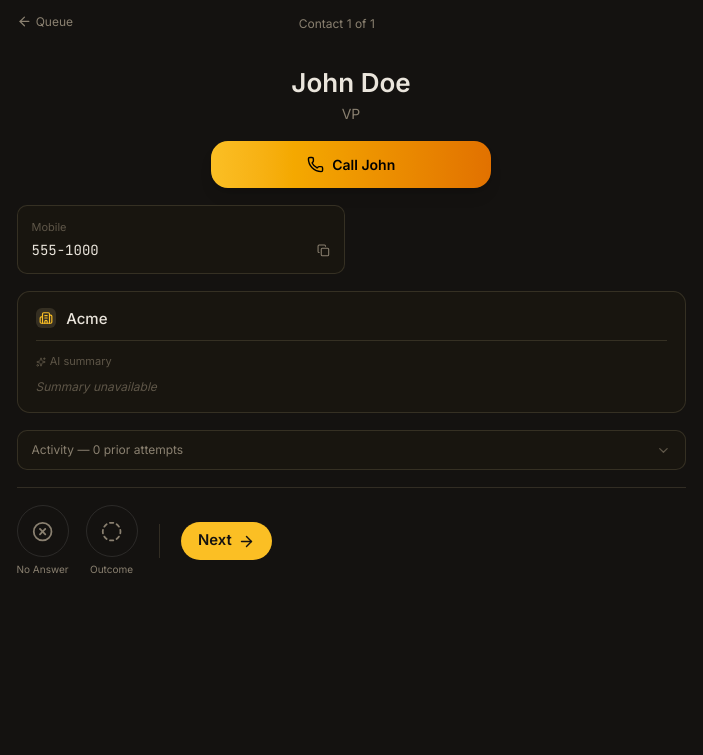
it: ProfileViewCard — draft disposition flow › Cancel in the disposition form returns to the icon row without logging
Click the button titled "Log a call outcome" at (112, 531), box x1=86 y1=505 x2=138 y2=557
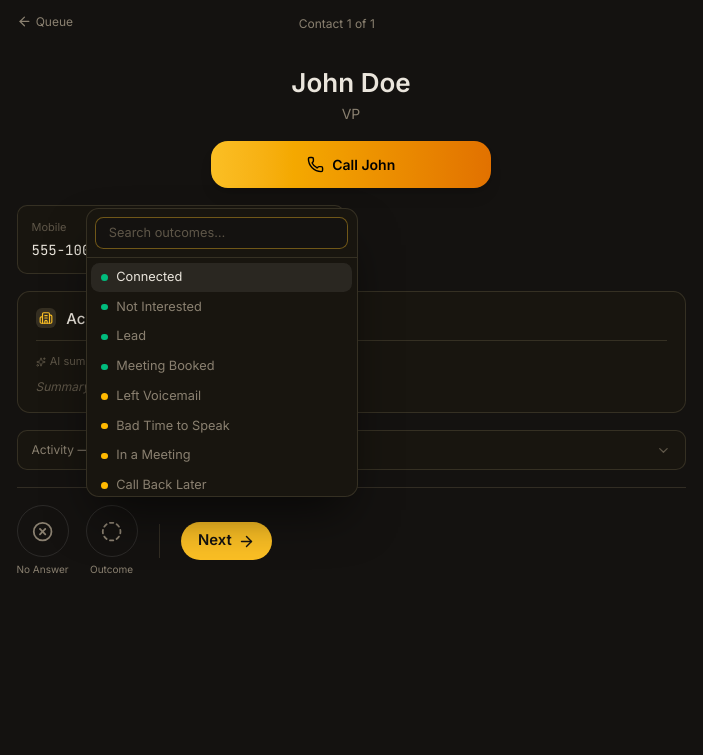
Click the button "Meeting Booked" at (165, 366), box x1=91 y1=352 x2=352 y2=382
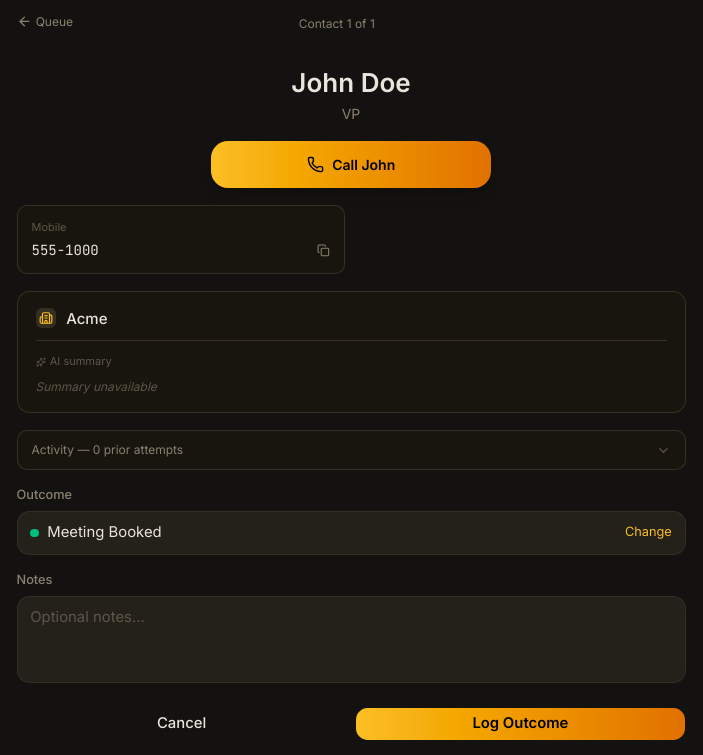
Click the button "Cancel" at (182, 724), box x1=16 y1=707 x2=347 y2=741
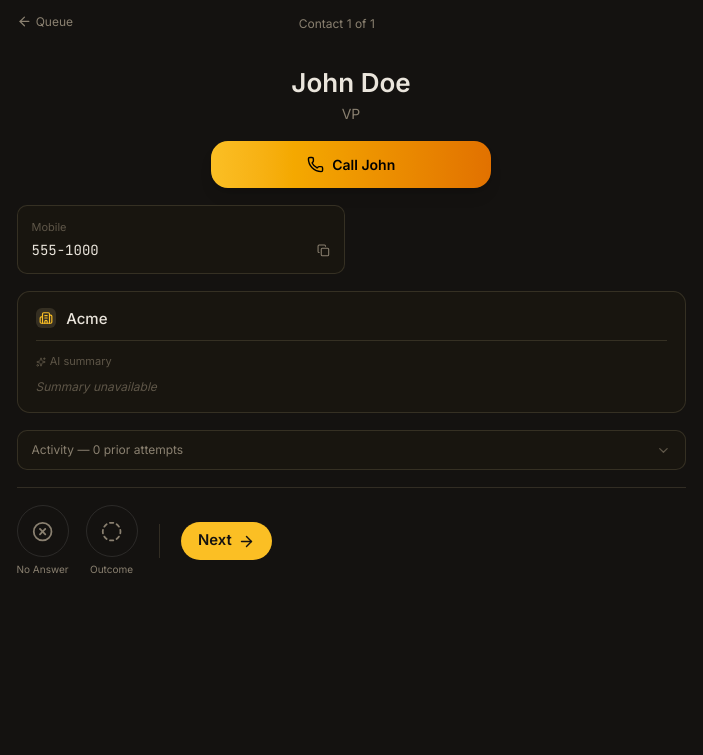
Expected: the button titled "Log a call outcome" is shown, x1=86 y1=505 x2=138 y2=557
